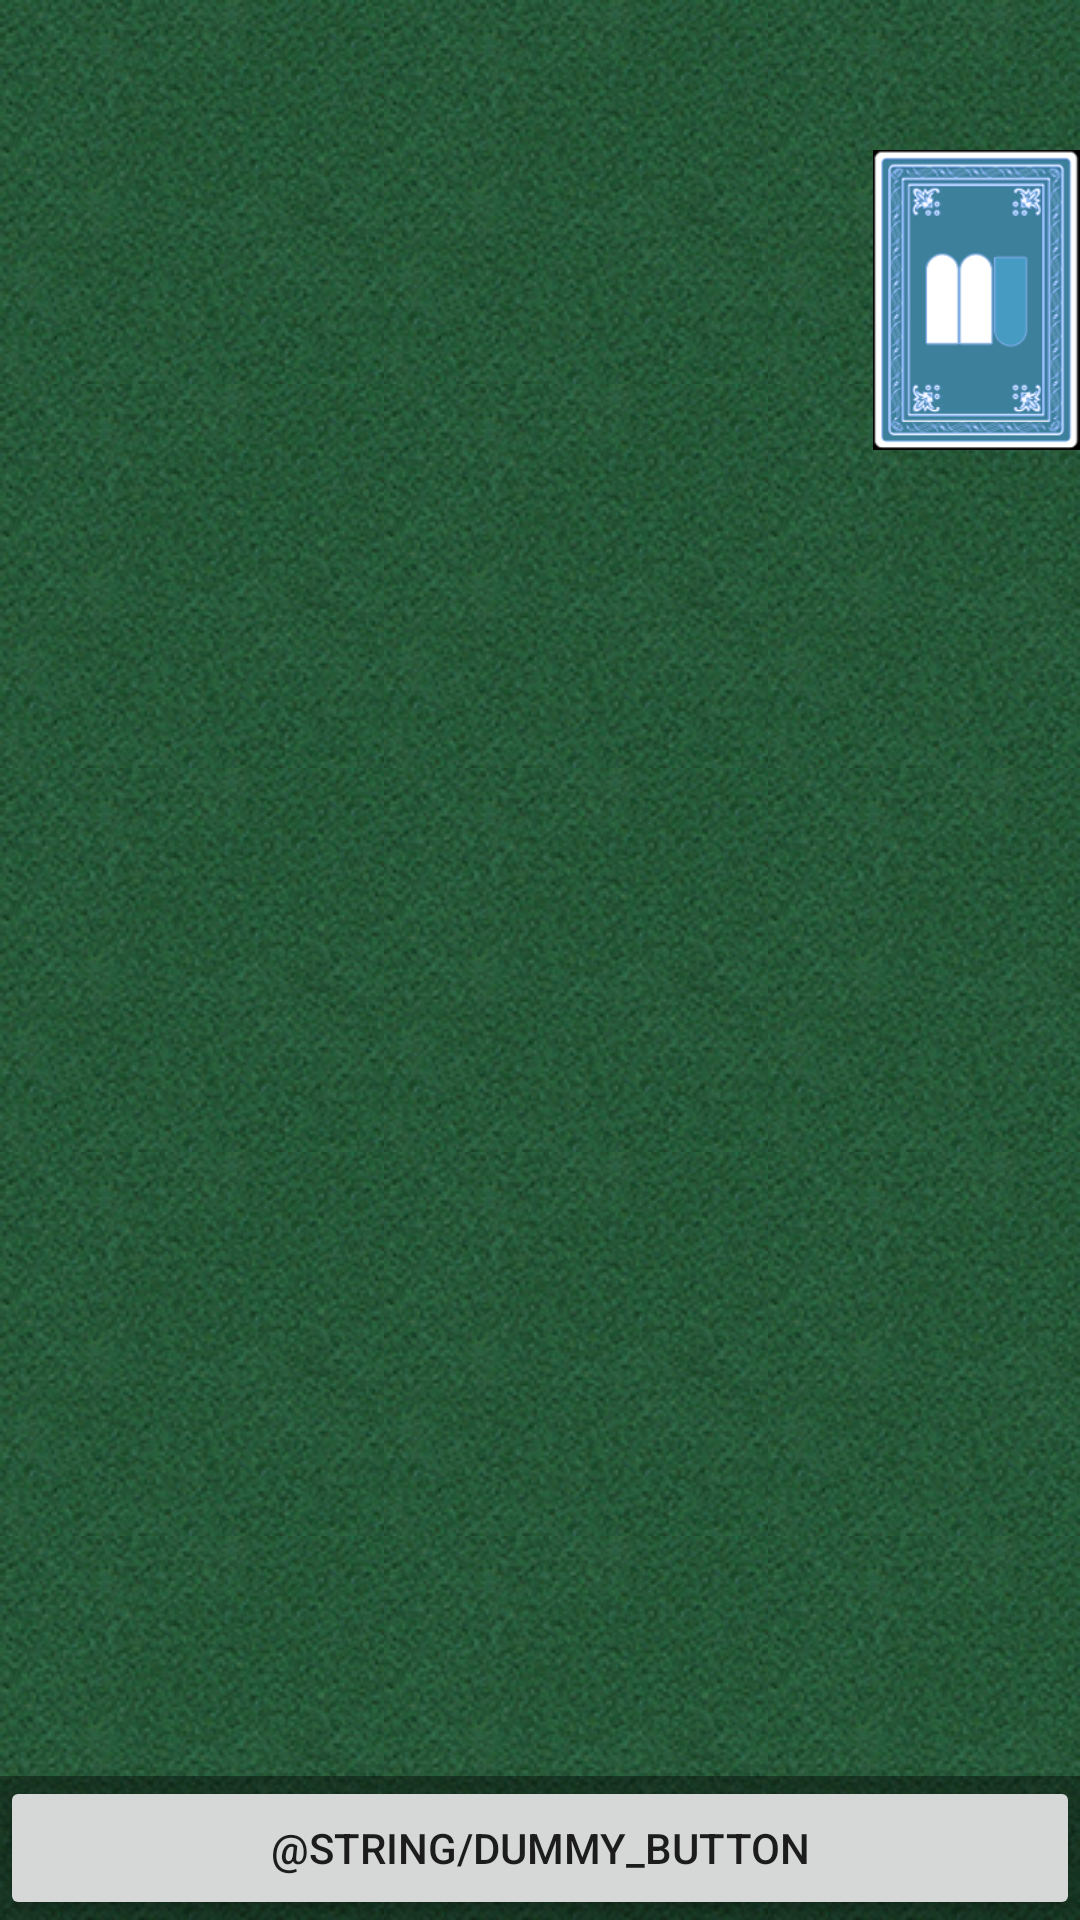

Screen size 1080×1920. Icon name, then its center in pixels as (x=x, y=y):
card: (x=976, y=300)
